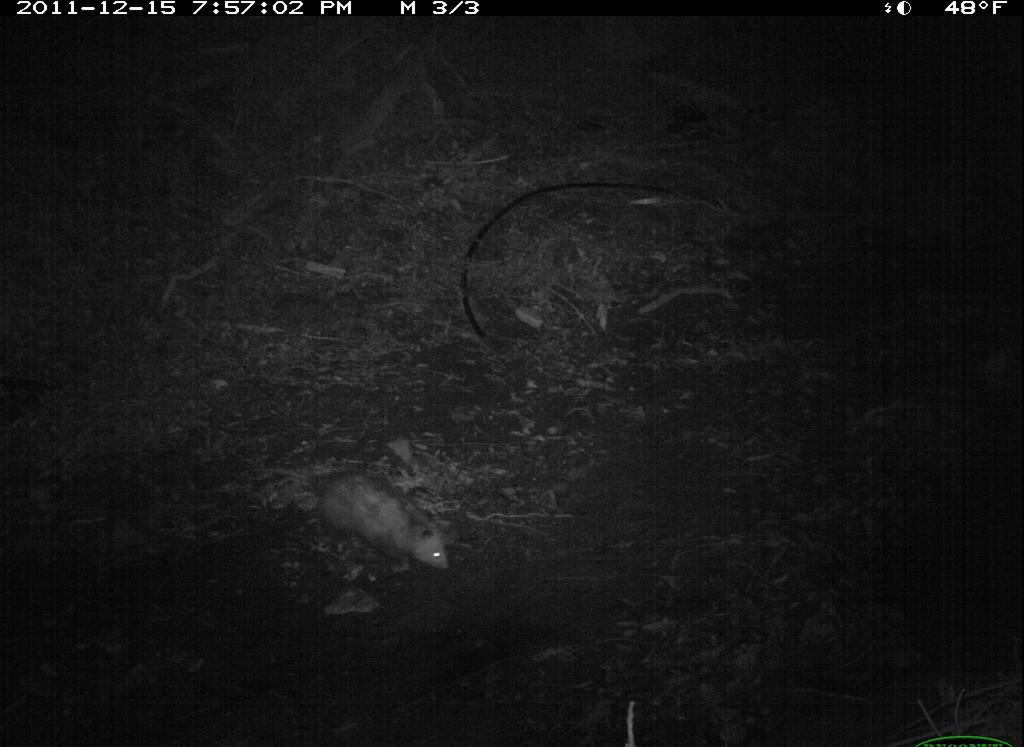opossum: (263, 455, 477, 591)
